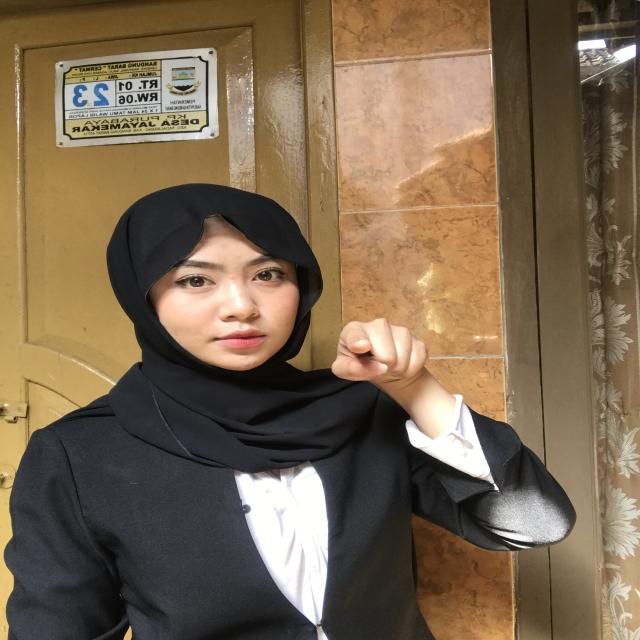kamu: (287, 305, 477, 406)
